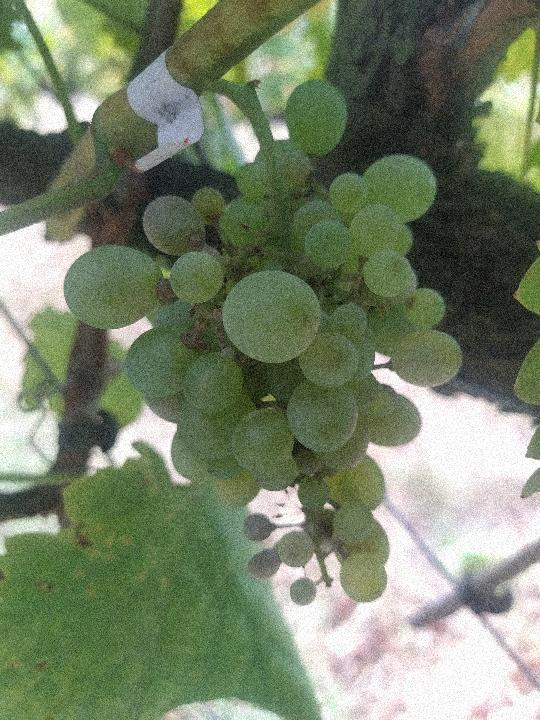grape: (60, 78, 468, 609)
